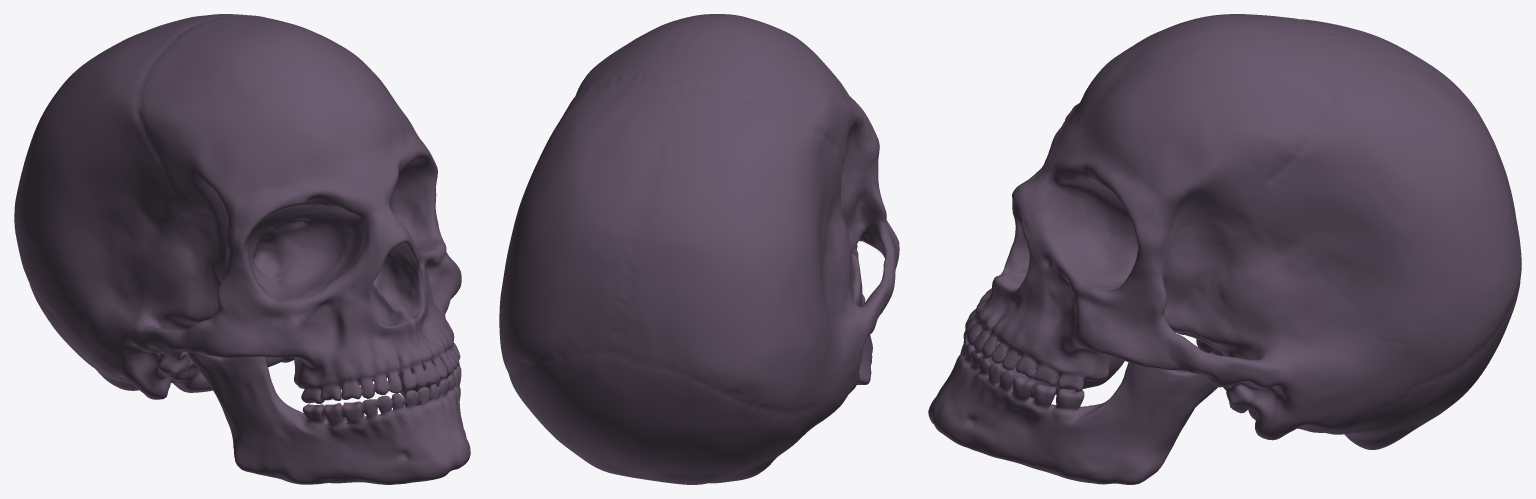
File: afterlife.glb
The picture shows the model from 3 angles, left to right: view 1: azimuth 30°, elevation 25°; view 2: azimuth 150°, elevation 25°; view 3: azimuth 270°, elevation 25°; orthographic projection. The views are drawn at different scales.
Visible parts, largest first — view 1: Skull; view 2: Skull; view 3: Skull.
Part boxes in pixels (left/top/right/bottom): Skull: left=14, top=14, right=470, bottom=484; Skull: left=499, top=14, right=899, bottom=484; Skull: left=928, top=14, right=1521, bottom=484.
Size of the model in its own units: 2.53 by 2.89 by 3.87.
